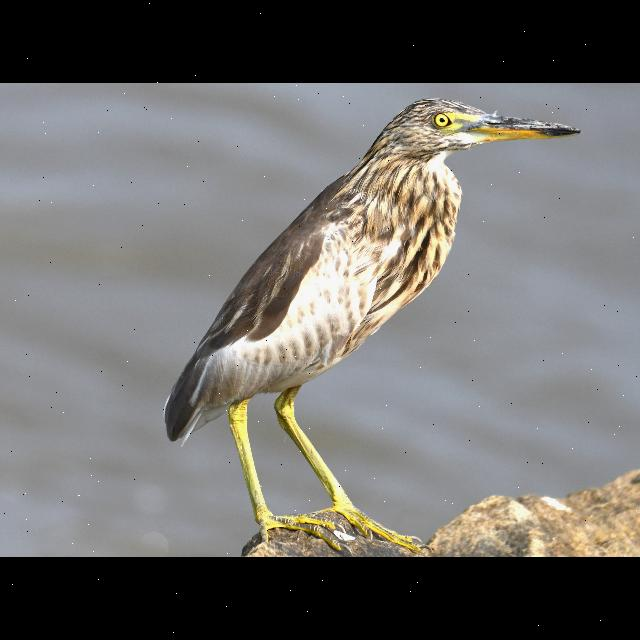heron: (158, 95, 580, 539)
